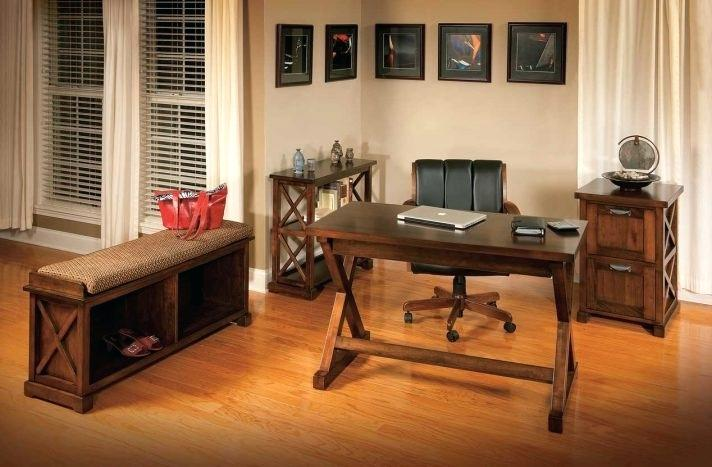chairs: (403, 158, 530, 345)
